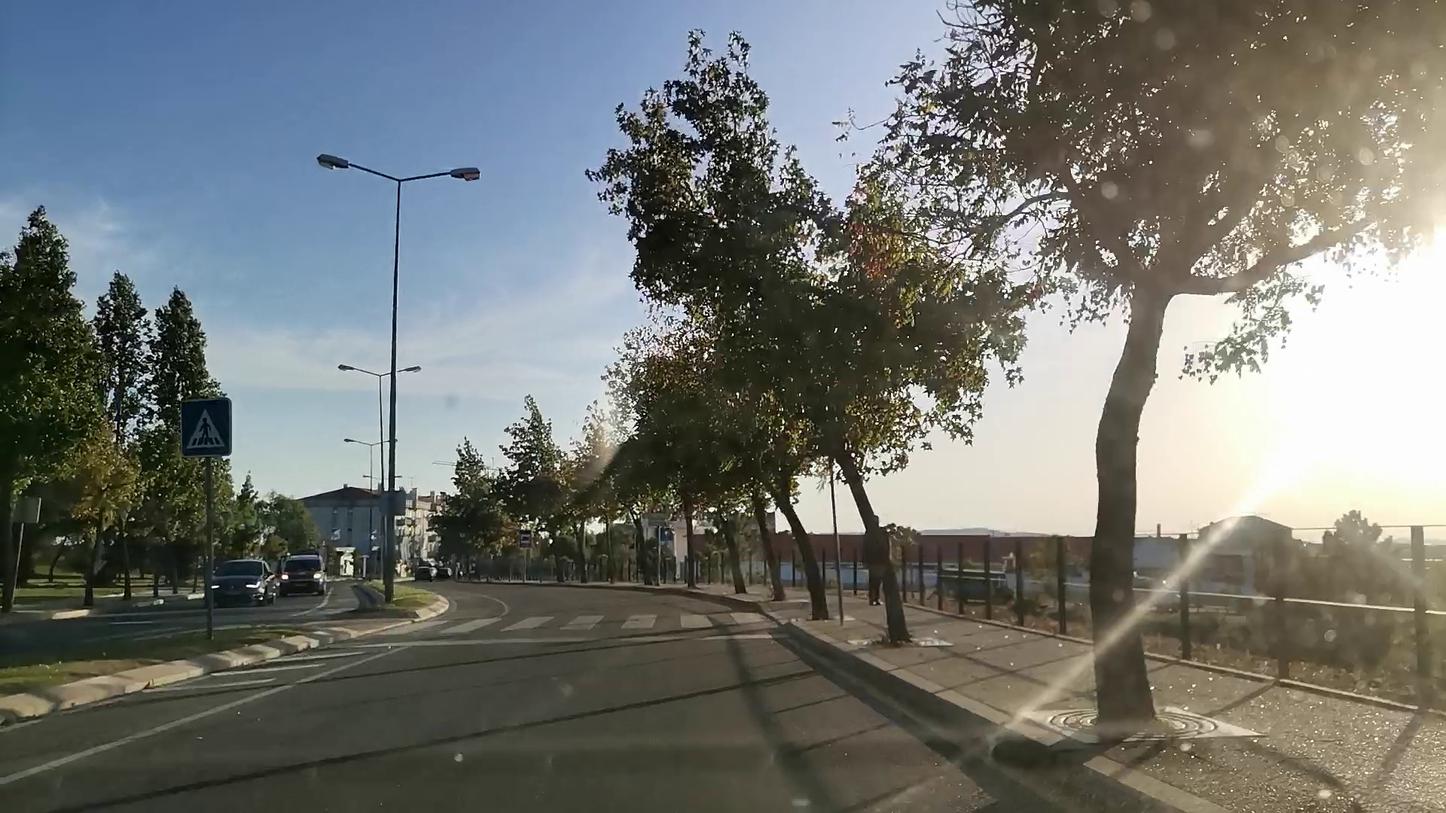Stairs: (377, 603, 799, 652)
